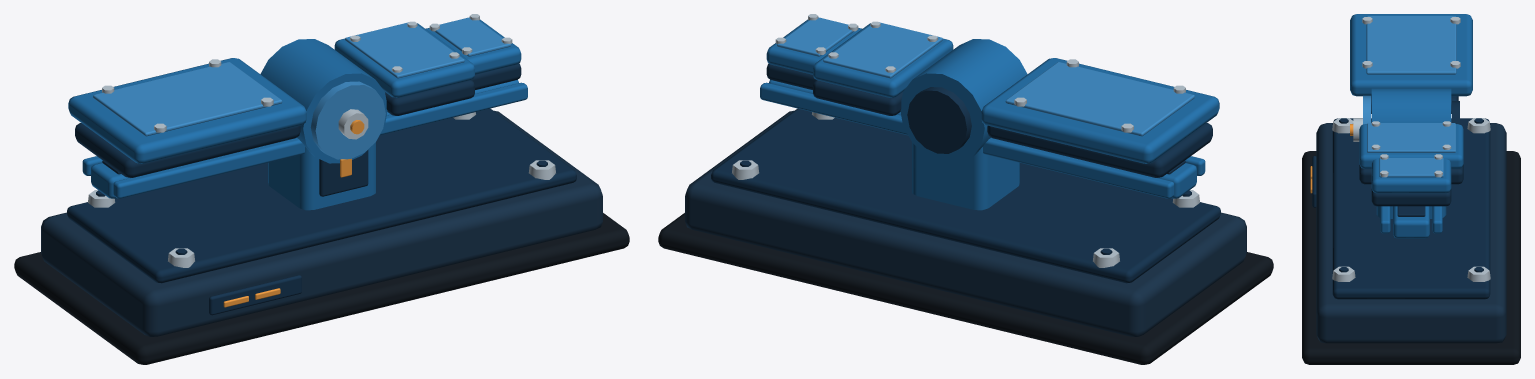
File: asset.glb
The picture shows the model from 3 angles, left to right: view 1: azimuth 30°, elevation 25°; view 2: azimuth 150°, elevation 25°; view 3: azimuth 270°, elevation 25°; orthographic projection. The views are drawn at different scales.
Visible parts, largest first — view 1: Base_TopInset, Base_WeightedBody, Base_RubberFoot, Left_Platform, Left_Platform_Inset, I_Beam_FrontFlange, Pivot_CentralHousing, Pivot_FrontCap, Right_Platform_Inner_Inset, Pivot_SupportPedestal, Left_Platform_Support, Right_Platform_Inner_Platform (+8 smaller); view 2: Base_TopInset, Base_WeightedBody, Base_RubberFoot, Left_Platform, Left_Platform_Inset, Pivot_CentralHousing, I_Beam_BackFlange, Pivot_SupportPedestal, Right_Platform_Inner_Inset, Pivot_RearCap, Left_Platform_Support, Right_Platform_Inner_Platform (+5 smaller); view 3: Base_TopInset, Base_WeightedBody, Base_RubberFoot, Left_Platform_Inset, Left_Platform, Pivot_CentralHousing, Right_Platform_Inner_Inset, Right_Platform_Outer_Platform, Right_Platform_Inner_Platform, Right_Platform_Outer_Inset, Right_Platform_Outer_Support, I_Beam_Web (+11 smaller).
Part boxes in pixels (x1=…): Base_TopInset: x1=67, y1=108, x2=576, y2=283; Base_WeightedBody: x1=41, y1=110, x2=602, y2=336; Base_RubberFoot: x1=14, y1=213, x2=629, y2=364; Left_Platform: x1=68, y1=58, x2=306, y2=163; Left_Platform_Inset: x1=93, y1=62, x2=282, y2=136; I_Beam_FrontFlange: x1=113, y1=82, x2=527, y2=198; Pivot_CentralHousing: x1=260, y1=39, x2=387, y2=163; Pivot_FrontCap: x1=310, y1=81, x2=385, y2=159; Right_Platform_Inner_Inset: x1=345, y1=22, x2=464, y2=78; Pivot_SupportPedestal: x1=268, y1=142, x2=375, y2=210; Left_Platform_Support: x1=75, y1=123, x2=300, y2=177; Right_Platform_Inner_Platform: x1=334, y1=23, x2=474, y2=97; Base_TopInset: x1=711, y1=108, x2=1220, y2=283; Base_WeightedBody: x1=685, y1=110, x2=1246, y2=336; Base_RubberFoot: x1=658, y1=213, x2=1273, y2=364; Left_Platform: x1=981, y1=58, x2=1219, y2=163; Left_Platform_Inset: x1=1005, y1=62, x2=1194, y2=136; Pivot_CentralHousing: x1=900, y1=39, x2=1027, y2=163; I_Beam_BackFlange: x1=760, y1=82, x2=1174, y2=198; Pivot_SupportPedestal: x1=912, y1=142, x2=1019, y2=210; Right_Platform_Inner_Inset: x1=823, y1=22, x2=942, y2=78; Pivot_RearCap: x1=907, y1=87, x2=971, y2=153; Left_Platform_Support: x1=987, y1=123, x2=1212, y2=177; Right_Platform_Inner_Platform: x1=813, y1=23, x2=953, y2=97; Base_TopInset: x1=1332, y1=118, x2=1490, y2=299; Base_WeightedBody: x1=1316, y1=123, x2=1506, y2=343; Base_RubberFoot: x1=1302, y1=151, x2=1520, y2=364; Left_Platform_Inset: x1=1366, y1=16, x2=1456, y2=74; Left_Platform: x1=1350, y1=14, x2=1472, y2=96; Pivot_CentralHousing: x1=1371, y1=88, x2=1451, y2=122; Right_Platform_Inner_Inset: x1=1367, y1=123, x2=1455, y2=152; Right_Platform_Outer_Platform: x1=1371, y1=159, x2=1451, y2=193; Right_Platform_Inner_Platform: x1=1359, y1=124, x2=1463, y2=168; Right_Platform_Outer_Inset: x1=1379, y1=158, x2=1443, y2=177; Right_Platform_Outer_Support: x1=1371, y1=189, x2=1451, y2=206; I_Beam_Web: x1=1393, y1=206, x2=1429, y2=238.
Size of the model in its own units: 4.7 by 1.88 by 2.14.
